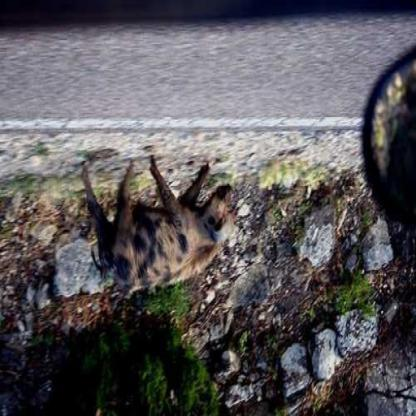boar: (71, 117, 260, 329)
